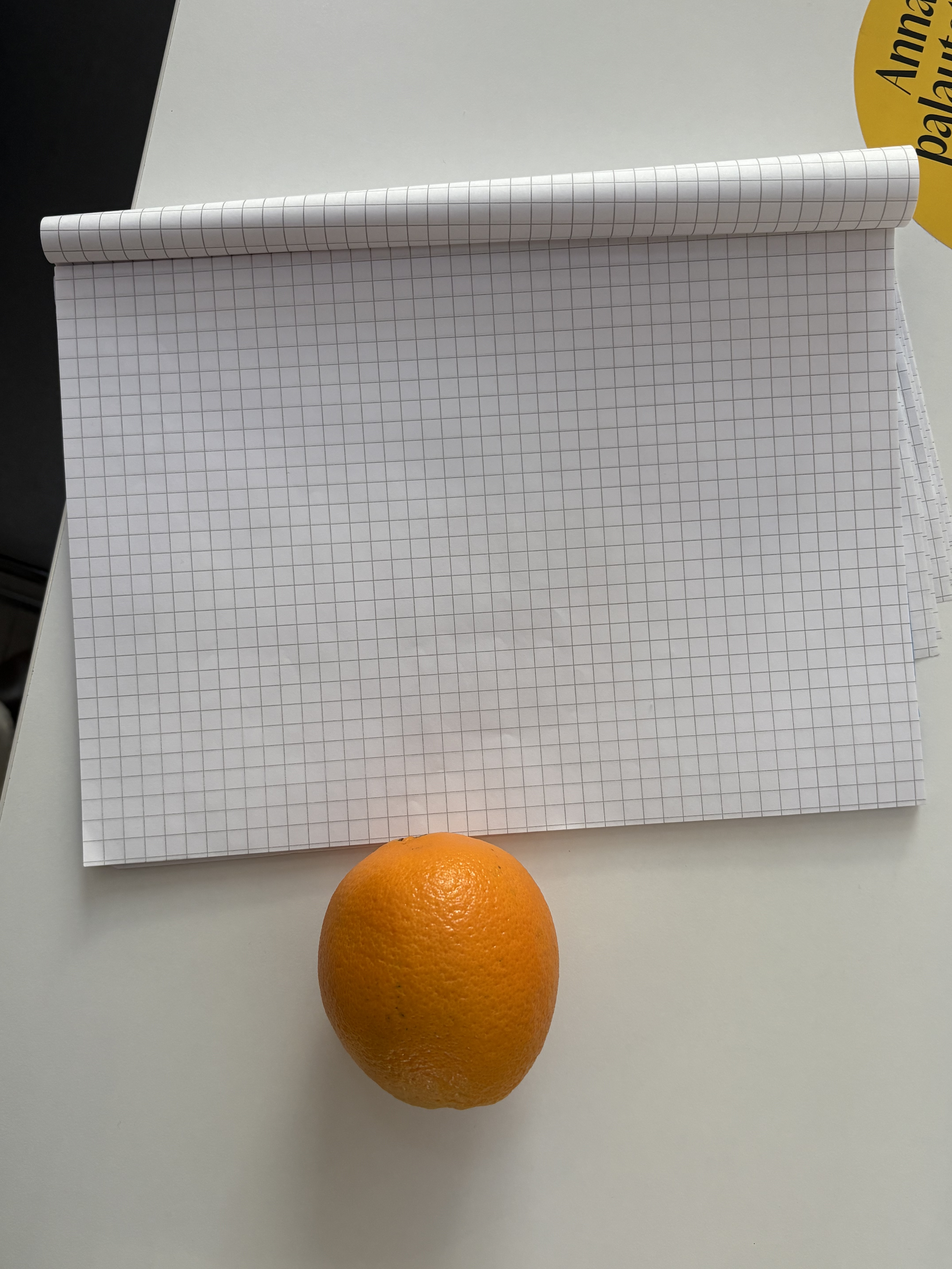paper: (30, 145, 944, 869)
